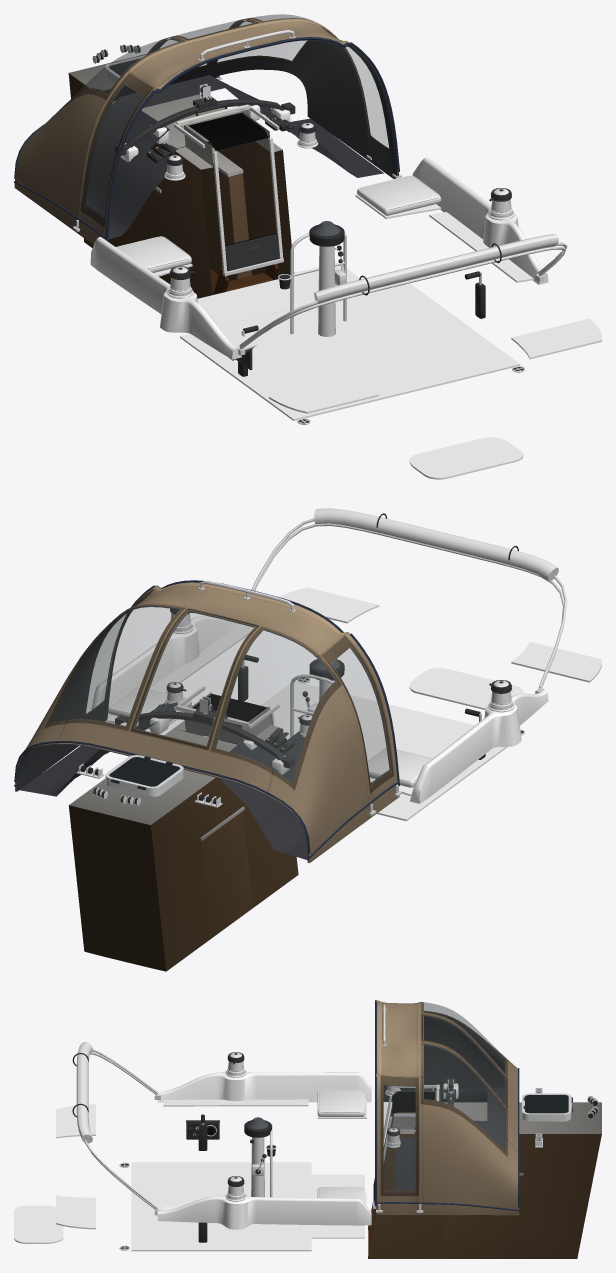
File: cockpit.glb
3 renders of one model, top to bottom at view 1: azimuth 30°, elevation 25°; view 2: azimuth 150°, elevation 25°; view 3: azimuth 270°, elevation 25°, orthographic. The views are drawn at different scales.
Parts seen in each view (by area): view 1: teak_deck, dodger_shade, companion_interior, dodger, gelcoat_ao, dodger_window, cushions, stainless, near_black, dodger_trim, companion_portal, near_stainless (+4 smaller); view 2: companion_interior, dodger_window, dodger, teak_deck, dodger_shade, gelcoat_ao, cushions, stainless, dodger_trim, near_black, black, hatch_lid (+4 smaller); view 3: companion_interior, teak_deck, dodger, dodger_window, gelcoat_ao, dodger_shade, cushions, stainless, near_black, dodger_trim, near_stainless, hatch_lid (+3 smaller).
Boxes of the visible parts, left/top/right/bottom form: teak_deck: left=153, top=194, right=601, bottom=479; dodger_shade: left=84, top=20, right=397, bottom=239; companion_interior: left=68, top=54, right=294, bottom=298; dodger: left=14, top=18, right=398, bottom=244; gelcoat_ao: left=90, top=105, right=548, bottom=359; dodger_window: left=65, top=14, right=388, bottom=218; cushions: left=116, top=176, right=558, bottom=304; stainless: left=73, top=30, right=567, bottom=349; near_black: left=95, top=45, right=523, bottom=423; dodger_trim: left=14, top=37, right=399, bottom=241; companion_portal: left=189, top=112, right=276, bottom=246; near_stainless: left=92, top=44, right=544, bottom=424; companion_interior: left=68, top=692, right=298, bottom=971; dodger_window: left=49, top=598, right=390, bottom=784; dodger: left=15, top=582, right=399, bottom=863; teak_deck: left=107, top=587, right=601, bottom=821; dodger_shade: left=16, top=597, right=390, bottom=862; gelcoat_ao: left=91, top=616, right=548, bottom=803; cushions: left=108, top=508, right=558, bottom=787; stainless: left=105, top=518, right=567, bottom=815; dodger_trim: left=14, top=580, right=399, bottom=858; near_black: left=80, top=513, right=523, bottom=804; black: left=111, top=677, right=341, bottom=790; hatch_lid: left=109, top=757, right=179, bottom=786; companion_interior: left=368, top=1091, right=601, bottom=1258; teak_deck: left=14, top=1099, right=366, bottom=1251; dodger: left=376, top=1000, right=519, bottom=1215; dodger_window: left=384, top=1002, right=505, bottom=1189; gelcoat_ao: left=157, top=1071, right=458, bottom=1229; dodger_shade: left=383, top=1012, right=505, bottom=1190; cushions: left=76, top=1041, right=364, bottom=1202; stainless: left=84, top=1004, right=436, bottom=1212; near_black: left=72, top=1053, right=597, bottom=1249; dodger_trim: left=375, top=1000, right=519, bottom=1211; near_stainless: left=119, top=1068, right=598, bottom=1250; hatch_lid: left=525, top=1095, right=568, bottom=1113.
Size of the model in its own units: 2.95 by 2.28 by 5.34.
Materials: 36 (4 with a texture image).
